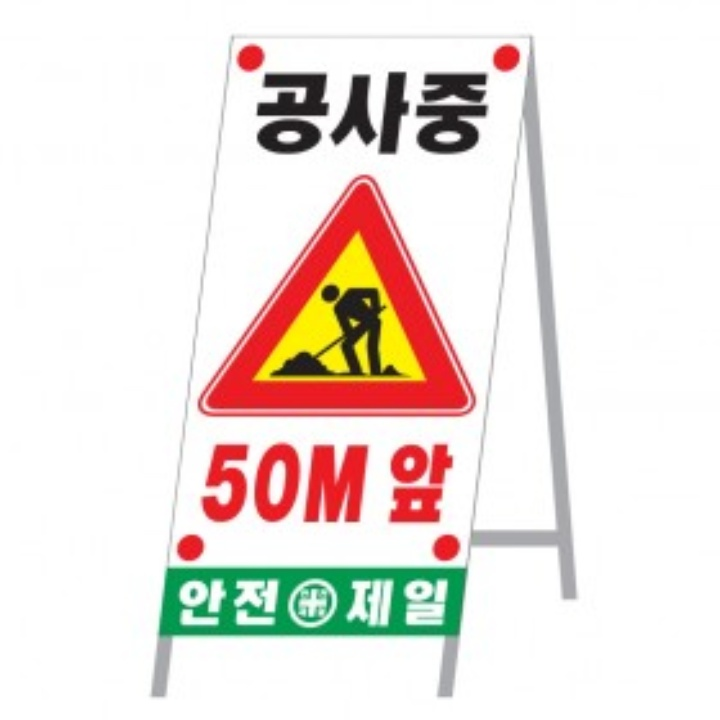const: (261, 271, 411, 385)
